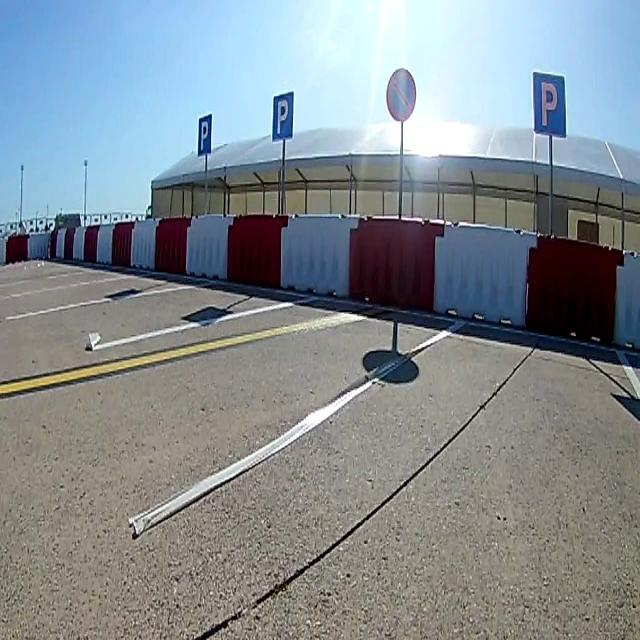park: (533, 73, 565, 137), (272, 94, 292, 138), (198, 115, 212, 153)
parkyasak: (386, 70, 416, 120)
